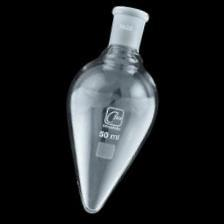Pear shaped flask: (60, 5, 159, 220)
